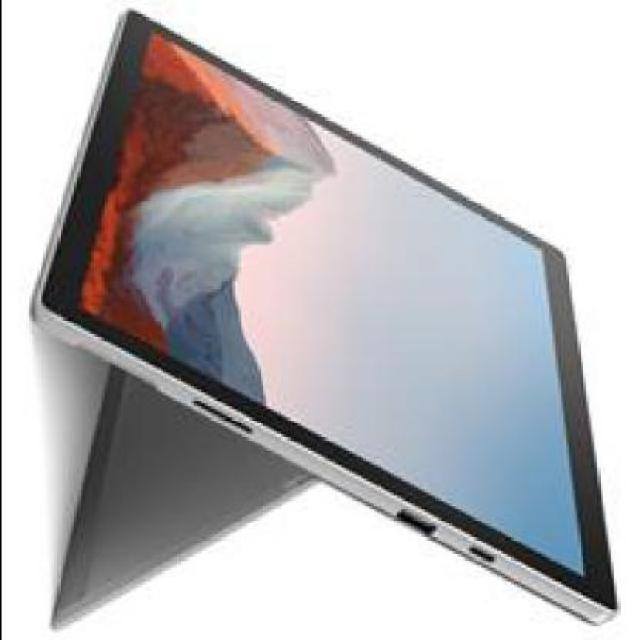tablet: (65, 0, 636, 636)
